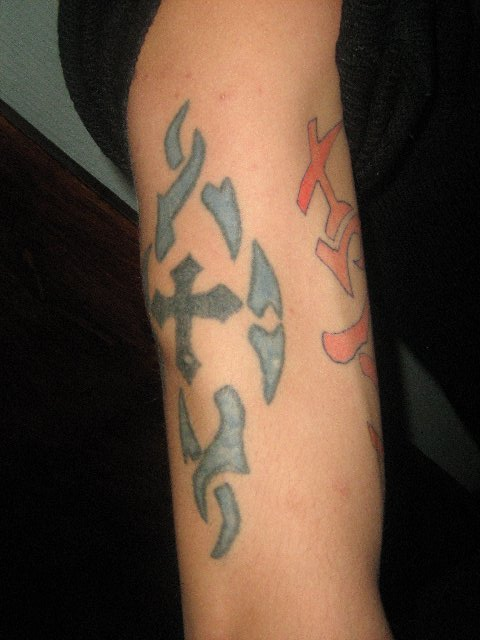tatu9_krest: (152, 267, 236, 376)
